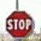stop: (5, 9, 33, 38)
